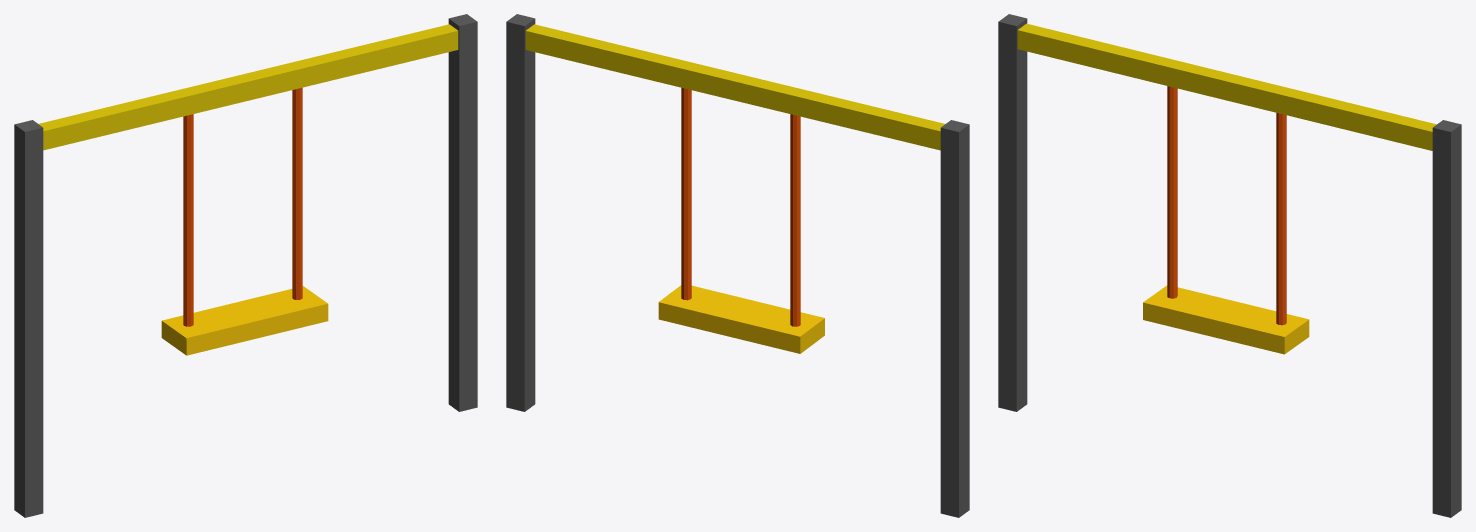
File: balancoirecomplet.glb
3 renders of one model, left to right at view 1: azimuth 30°, elevation 25°; view 2: azimuth 150°, elevation 25°; view 3: azimuth 330°, elevation 25°, orthographic.
Parts seen in each view (by area): view 1: Frame_Top, Frame_Right, Frame_Left, Seat, Rope; view 2: Frame_Top, Frame_Right, Frame_Left, Seat, Rope; view 3: Frame_Top, Frame_Left, Frame_Right, Seat, Rope.
Boxes of the visible parts, left/top/right/bottom form: Frame_Top: left=39, top=24, right=458, bottom=150; Frame_Right: left=14, top=120, right=43, bottom=517; Frame_Left: left=448, top=14, right=477, bottom=411; Seat: left=161, top=286, right=328, bottom=355; Rope: left=183, top=87, right=302, bottom=326; Frame_Top: left=525, top=24, right=944, bottom=150; Frame_Right: left=940, top=120, right=969, bottom=517; Frame_Left: left=506, top=14, right=535, bottom=411; Seat: left=658, top=285, right=824, bottom=353; Rope: left=681, top=87, right=800, bottom=326; Frame_Top: left=1017, top=23, right=1436, bottom=150; Frame_Left: left=1432, top=120, right=1461, bottom=517; Frame_Right: left=998, top=14, right=1027, bottom=411; Seat: left=1143, top=285, right=1309, bottom=354; Rope: left=1167, top=86, right=1286, bottom=325.
Bounding box in the file's own units: 21.06 × 17.16 × 2.01.
